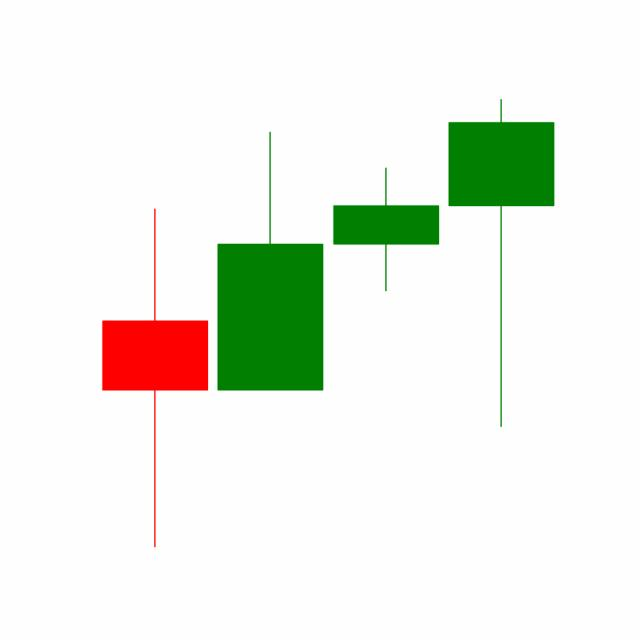Hammer: (328, 165, 444, 293)
